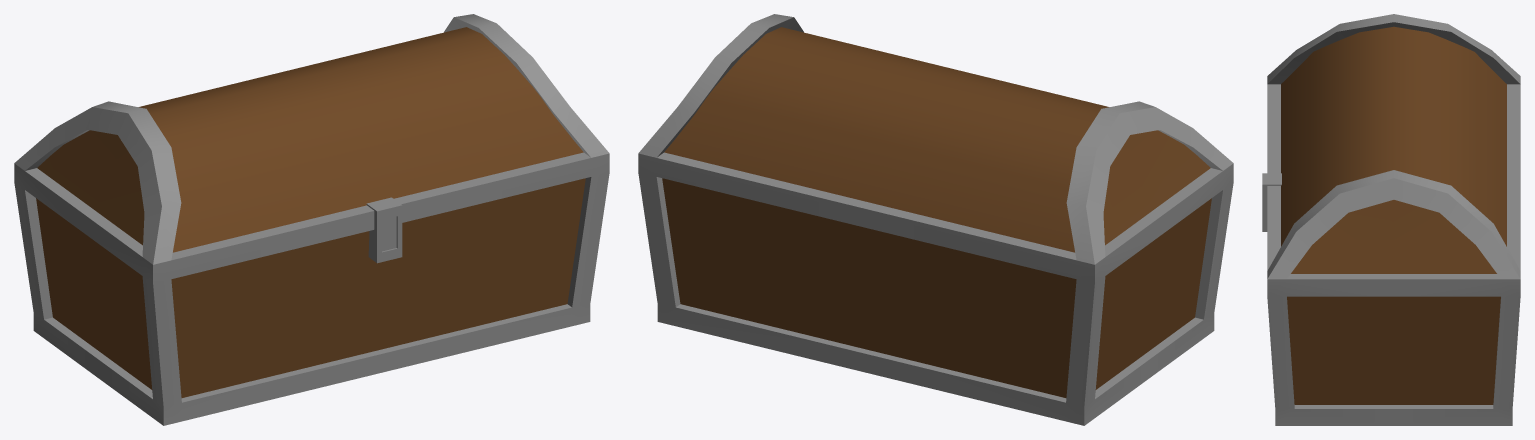
File: Chest.fbx
3 views of the same model, side by side, from view 1: azimuth 30°, elevation 25°; view 2: azimuth 150°, elevation 25°; view 3: azimuth 270°, elevation 25° (orthographic). The views are drawn at different scales.
Parts seen in each view (by area): view 1: coffre; view 2: coffre; view 3: coffre.
Part boxes in pixels (left/top/right/bottom): coffre: left=14, top=14, right=609, bottom=425; coffre: left=638, top=14, right=1233, bottom=425; coffre: left=1262, top=14, right=1520, bottom=425.
Bounding box in the file's own units: 116 × 62.76 × 62.45.
